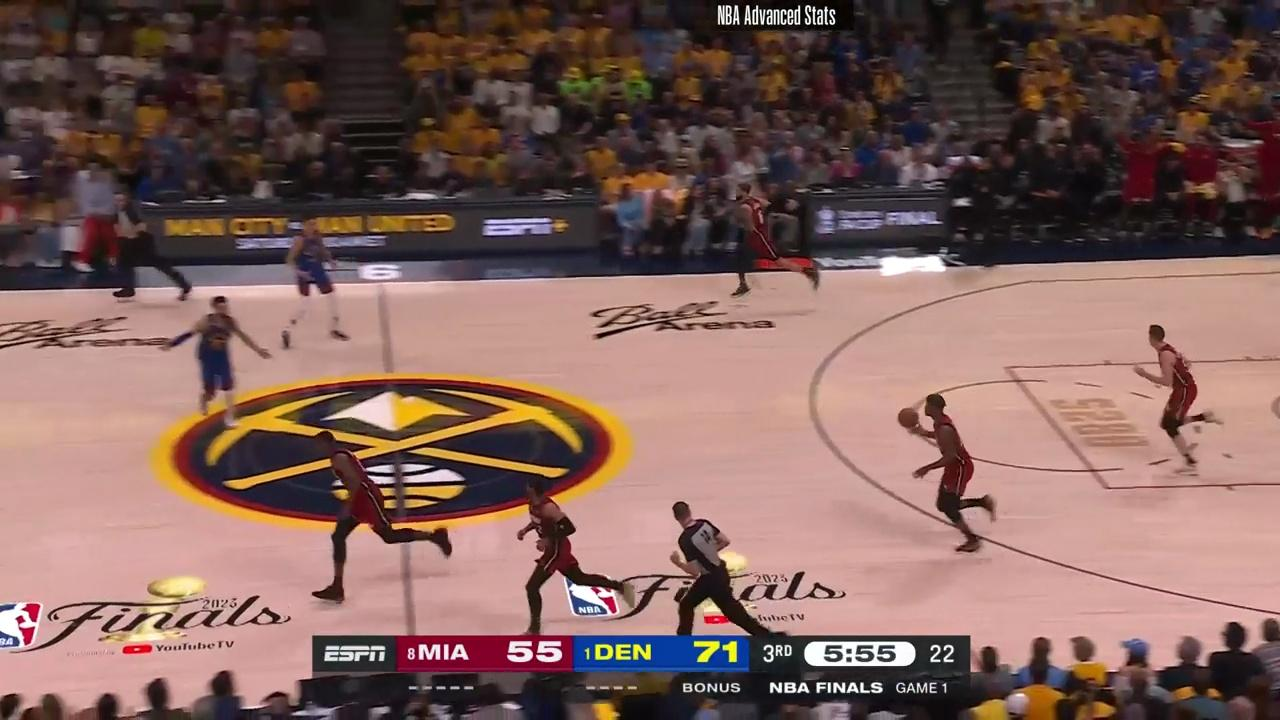Ball: (895, 404, 920, 429)
Person: (312, 433, 454, 606), (513, 478, 638, 641), (905, 391, 1000, 561), (1143, 320, 1221, 479), (181, 293, 276, 420), (730, 184, 822, 304), (282, 211, 355, 345)
Referee: (663, 496, 779, 638), (108, 175, 197, 310)
